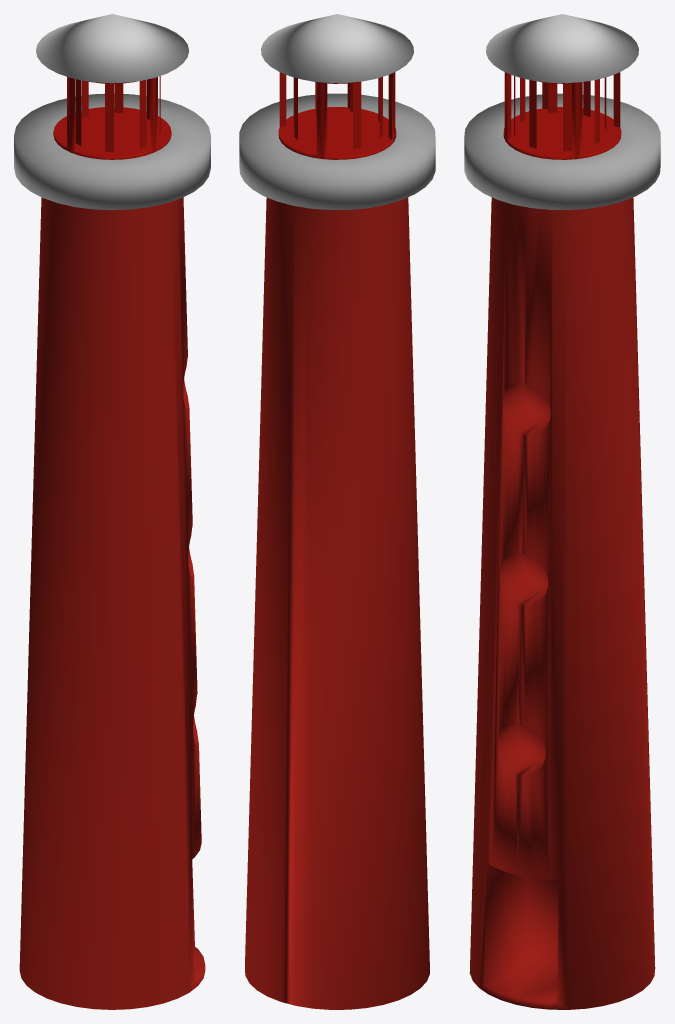
The model's file is latarnia.obj.
3 renders of one model, left to right at view 1: azimuth 30°, elevation 25°; view 2: azimuth 150°, elevation 25°; view 3: azimuth 270°, elevation 25°, orthographic.
Parts seen in each view (by area): view 1: Latarnia_Cylinder.002; view 2: Latarnia_Cylinder.002; view 3: Latarnia_Cylinder.002.
Part boxes in pixels (x1,y1,x2,y2): Latarnia_Cylinder.002: (14, 14, 210, 1009); Latarnia_Cylinder.002: (239, 14, 435, 1009); Latarnia_Cylinder.002: (464, 14, 660, 1009).
Bounding box in the file's own units: 0.4257 × 2.29 × 0.4257.
